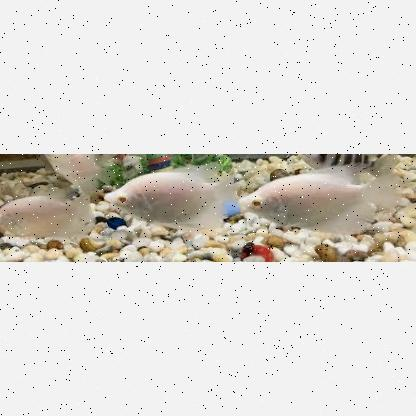gurame: (246, 160, 400, 235), (105, 160, 239, 236), (0, 190, 90, 244)
